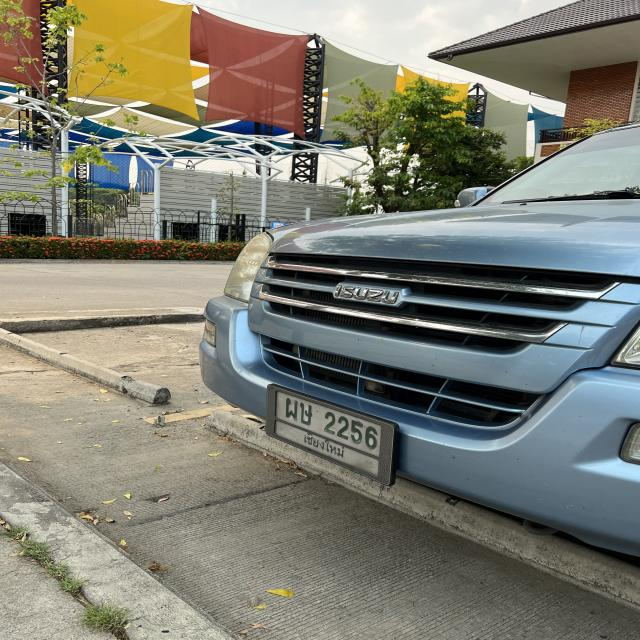license_plate: (265, 382, 399, 487)
